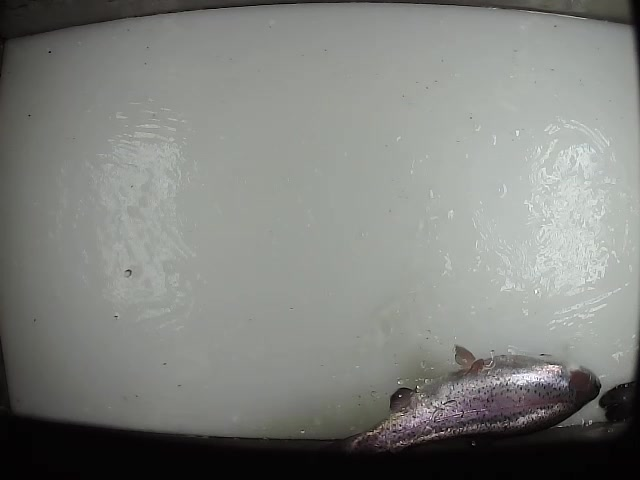fish: (323, 339, 602, 461)
